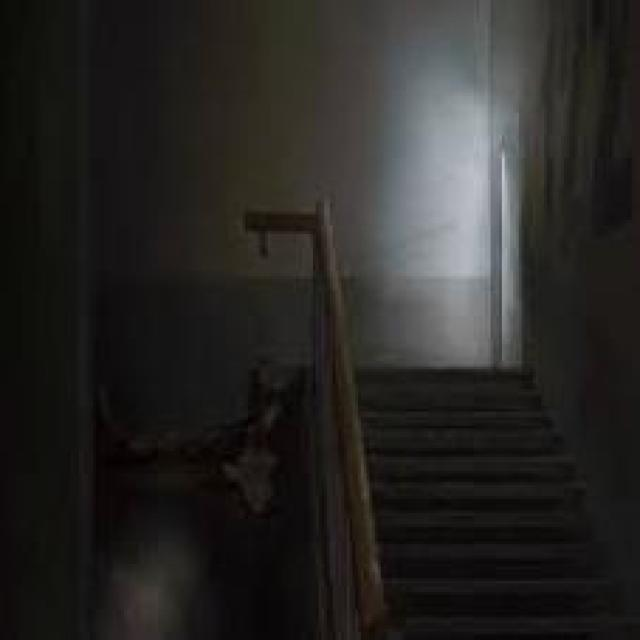upstair: (348, 353, 627, 599)
